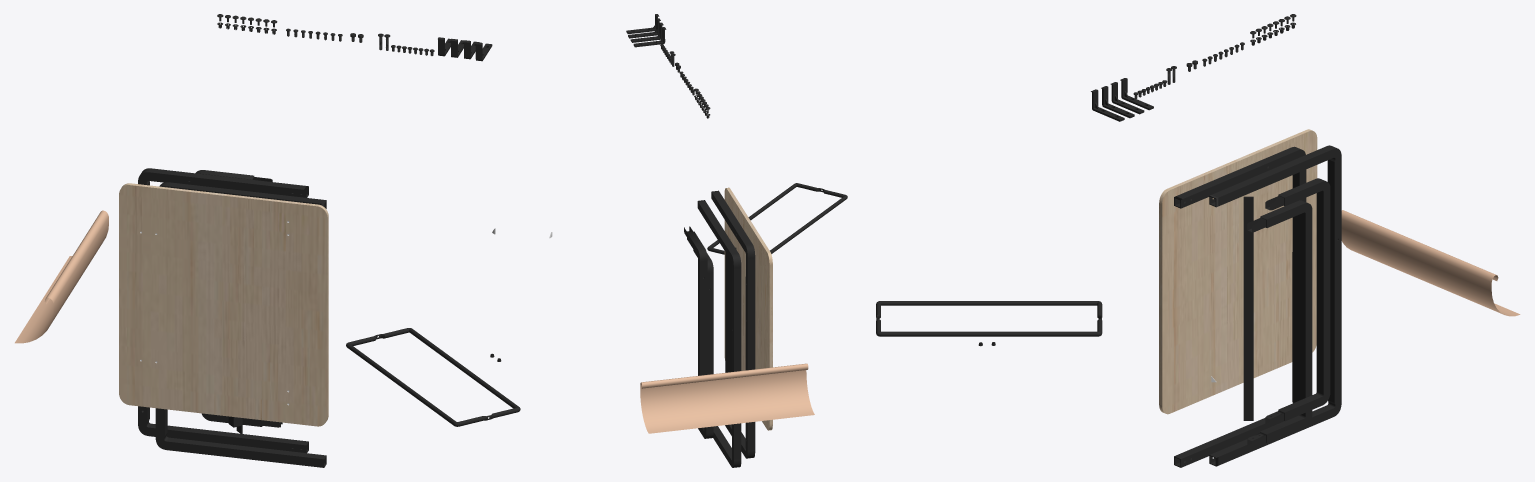
The model's file is OLSEROD_v3.gltf.
3 views of the same model, side by side, from view 1: azimuth 30°, elevation 25°; view 2: azimuth 150°, elevation 25°; view 3: azimuth 270°, elevation 25° (orthographic). The views are drawn at different scales.
Visible parts, largest first — view 1: Tabel-top, Main_Leg2, Main_Leg1, Basket, Basket suport; view 2: Basket, Tabel-top, Main_Leg2, Main_Leg1, Leg1, Basket suport, Leg2, Supoort_plank; view 3: Tabel-top, Main_Leg2, Basket, Leg1, Main_Leg1, Leg2, Basket suport, Supoort_plank.
Part boxes in pixels (bbox=[...]): Tabel-top: bbox=[119, 183, 328, 426]; Main_Leg2: bbox=[138, 168, 308, 453]; Main_Leg1: bbox=[155, 182, 326, 467]; Basket: bbox=[15, 210, 108, 343]; Basket suport: bbox=[346, 328, 520, 426]; Basket: bbox=[640, 363, 814, 433]; Tabel-top: bbox=[724, 187, 772, 430]; Main_Leg2: bbox=[697, 200, 741, 467]; Main_Leg1: bbox=[711, 190, 755, 458]; Leg1: bbox=[684, 226, 707, 375]; Basket suport: bbox=[707, 183, 847, 254]; Leg2: bbox=[693, 250, 713, 438]; Supoort_plank: bbox=[725, 247, 736, 372]; Tabel-top: bbox=[1159, 129, 1317, 414]; Main_Leg2: bbox=[1209, 145, 1341, 466]; Basket: bbox=[1341, 210, 1520, 316]; Leg1: bbox=[1265, 178, 1330, 425]; Main_Leg1: bbox=[1174, 146, 1306, 467]; Leg2: bbox=[1247, 200, 1312, 447]; Basket suport: bbox=[876, 301, 1102, 336]; Supoort_plank: bbox=[1243, 196, 1253, 420].
Bounding box in the file's own units: 7.01 × 7.04 × 9.53.
3 materials, 1 textured.
